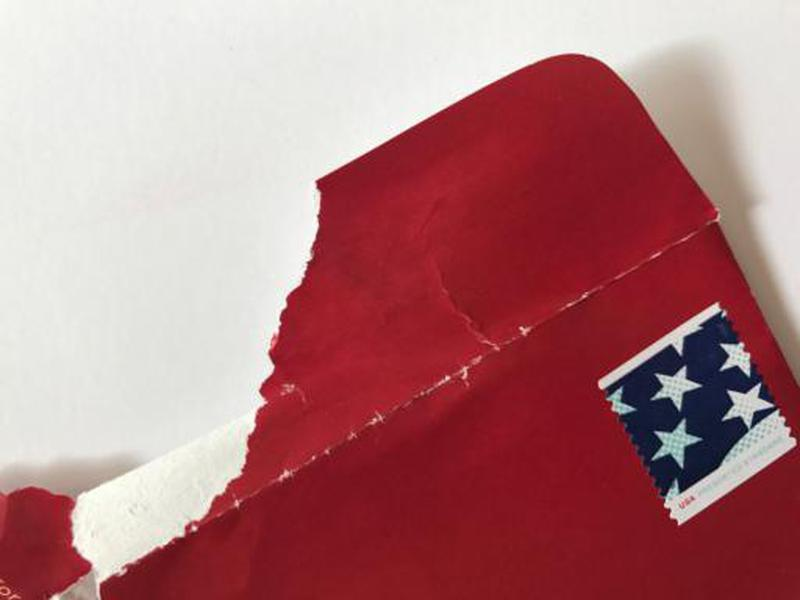paper: (1, 52, 800, 600)
